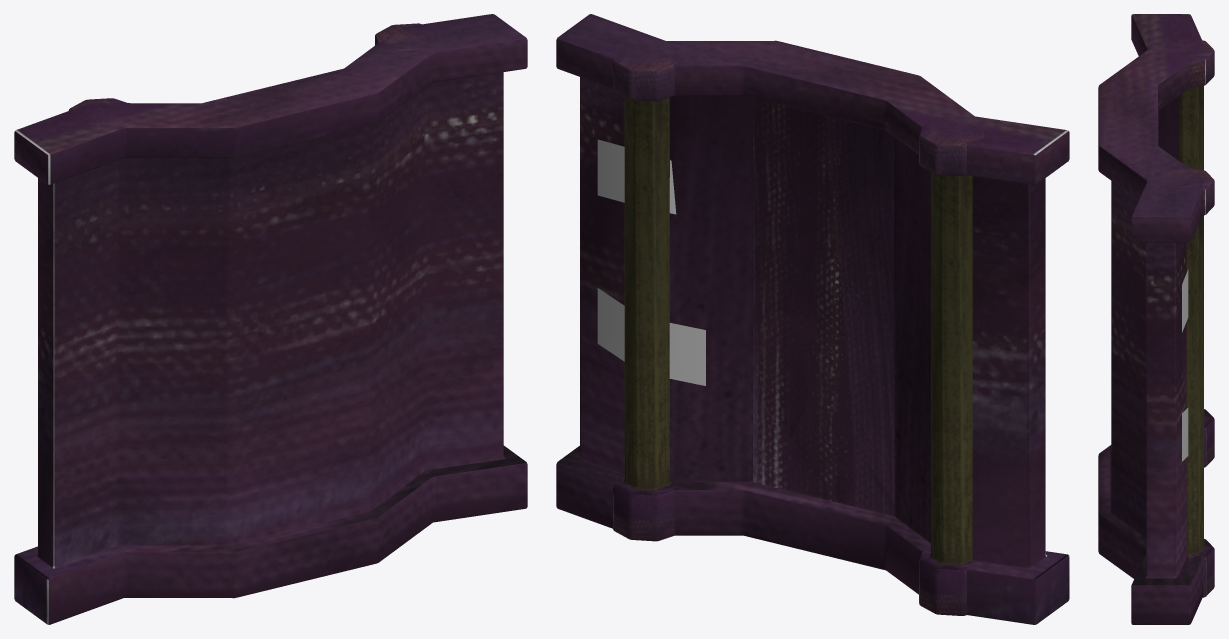
The model's file is MANOR_WALL_3_003.obj.
The picture shows the model from 3 angles, left to right: view 1: azimuth 30°, elevation 25°; view 2: azimuth 150°, elevation 25°; view 3: azimuth 270°, elevation 25°; orthographic projection. The views are drawn at different scales.
Visible parts, largest first — view 1: MANOR_WALL_3_003; view 2: MANOR_WALL_3_003; view 3: MANOR_WALL_3_003.
Boxes of the visible parts, x1,y1,x2,y2 form: MANOR_WALL_3_003: (14, 14, 527, 624); MANOR_WALL_3_003: (556, 14, 1069, 624); MANOR_WALL_3_003: (1098, 14, 1214, 624).
Bounding box in the file's own units: 3.2 × 3 × 0.7727.
